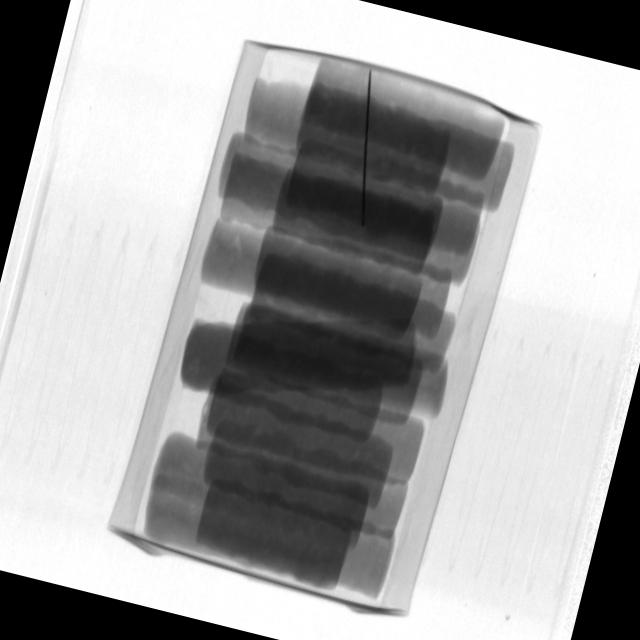ym: (331, 62, 406, 230)
